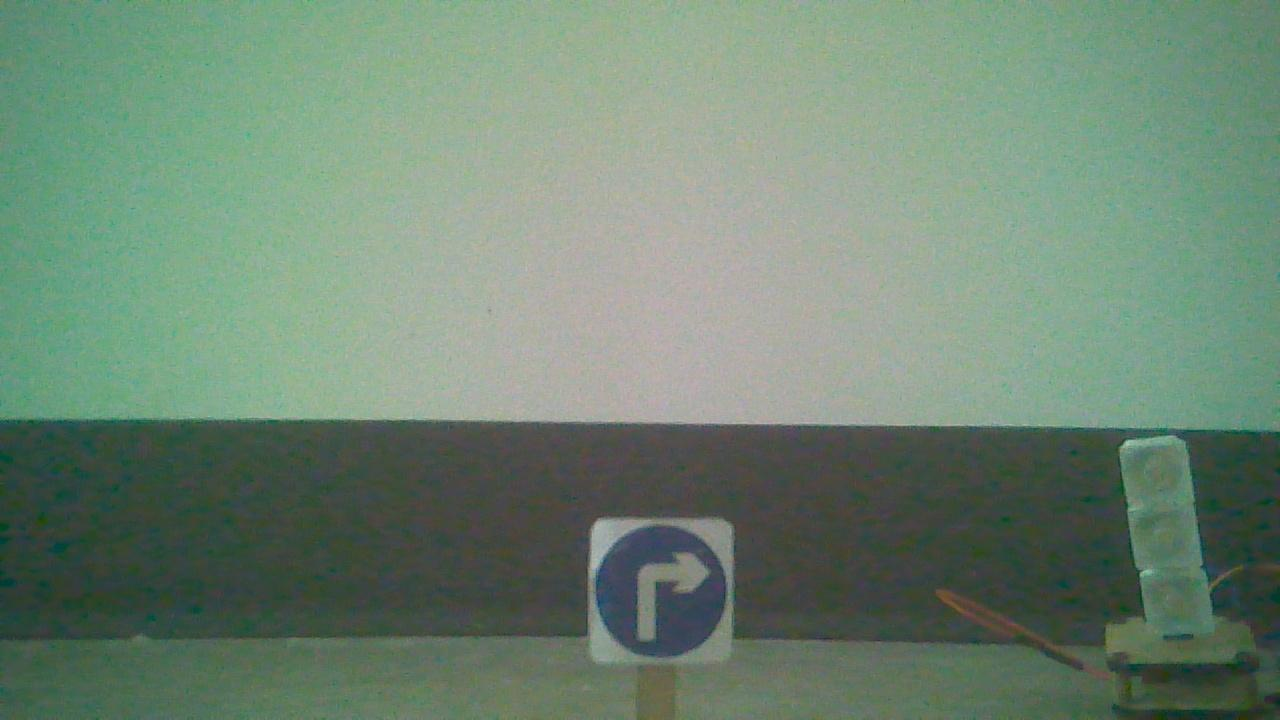turn: (589, 524, 731, 655)
